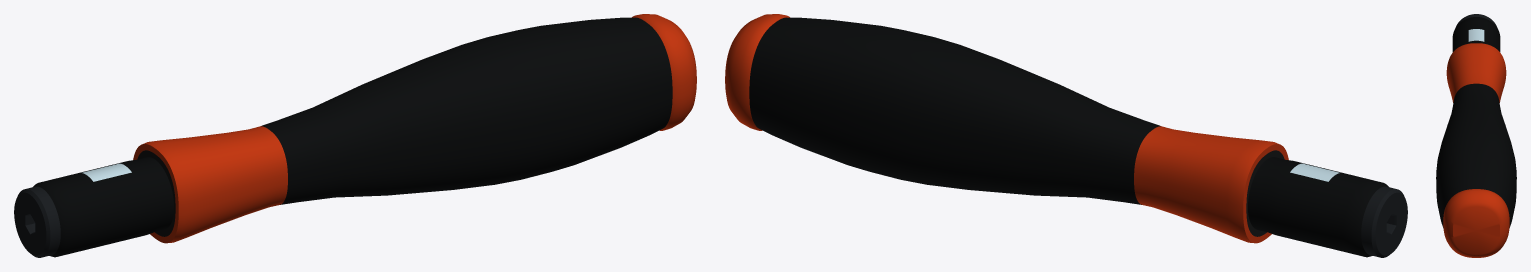
The picture shows the model from 3 angles, left to right: view 1: azimuth 30°, elevation 25°; view 2: azimuth 150°, elevation 25°; view 3: azimuth 270°, elevation 25°; orthographic projection. The views are drawn at different scales.
Visible parts, largest first — view 1: part_010_Grip_overmold, part_011_Front_collar, part_001_Setting_sleeve, part_006_Rear_cap, part_012_Drive_socket_coupling, part_008_Indicator_lens, part_002_Rigid_handle_core; view 2: part_010_Grip_overmold, part_011_Front_collar, part_001_Setting_sleeve, part_006_Rear_cap, part_012_Drive_socket_coupling, part_008_Indicator_lens, part_002_Rigid_handle_core; view 3: part_010_Grip_overmold, part_006_Rear_cap, part_011_Front_collar, part_001_Setting_sleeve, part_008_Indicator_lens, part_012_Drive_socket_coupling.
Part boxes in pixels (left/top/right/bottom): part_010_Grip_overmold: left=261, top=17, right=672, bottom=204; part_011_Front_collar: left=133, top=126, right=287, bottom=243; part_001_Setting_sleeve: left=33, top=157, right=173, bottom=257; part_006_Rear_cap: left=632, top=14, right=696, bottom=130; part_012_Drive_socket_coupling: left=14, top=186, right=60, bottom=257; part_008_Indicator_lens: left=82, top=163, right=131, bottom=181; part_002_Rigid_handle_core: left=137, top=150, right=175, bottom=236; part_010_Grip_overmold: left=749, top=17, right=1160, bottom=204; part_011_Front_collar: left=1134, top=126, right=1288, bottom=243; part_001_Setting_sleeve: left=1248, top=157, right=1388, bottom=257; part_006_Rear_cap: left=725, top=14, right=789, bottom=130; part_012_Drive_socket_coupling: left=1361, top=186, right=1407, bottom=257; part_008_Indicator_lens: left=1290, top=163, right=1339, bottom=181; part_002_Rigid_handle_core: left=1246, top=150, right=1284, bottom=236; part_010_Grip_overmold: left=1436, top=83, right=1516, bottom=228; part_006_Rear_cap: left=1443, top=189, right=1509, bottom=257; part_011_Front_collar: left=1446, top=43, right=1506, bottom=102; part_001_Setting_sleeve: left=1452, top=17, right=1500, bottom=51; part_008_Indicator_lens: left=1468, top=29, right=1484, bottom=41; part_012_Drive_socket_coupling: left=1455, top=14, right=1497, bottom=27.
Size of the model in its own units: 0.176 by 0.034 by 0.0304.
